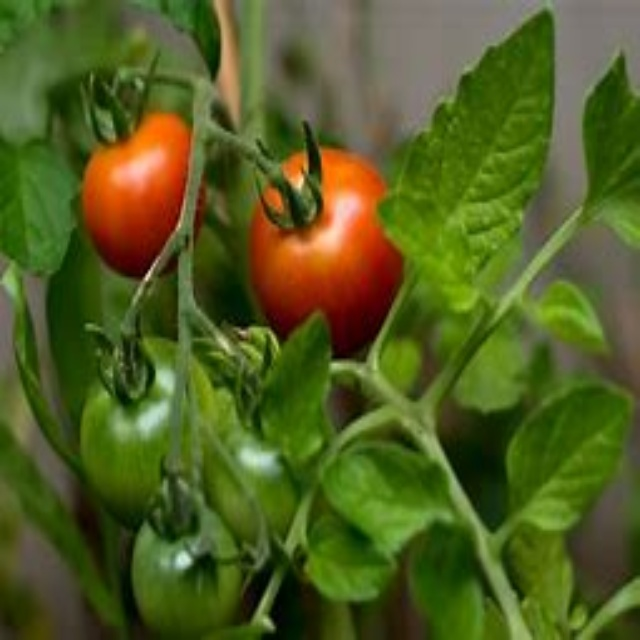tomato: (244, 147, 415, 356), (68, 343, 224, 513), (83, 111, 201, 267), (125, 494, 260, 625)
